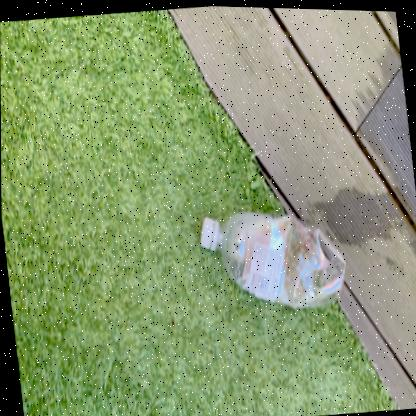Plastic: (199, 210, 345, 304)
